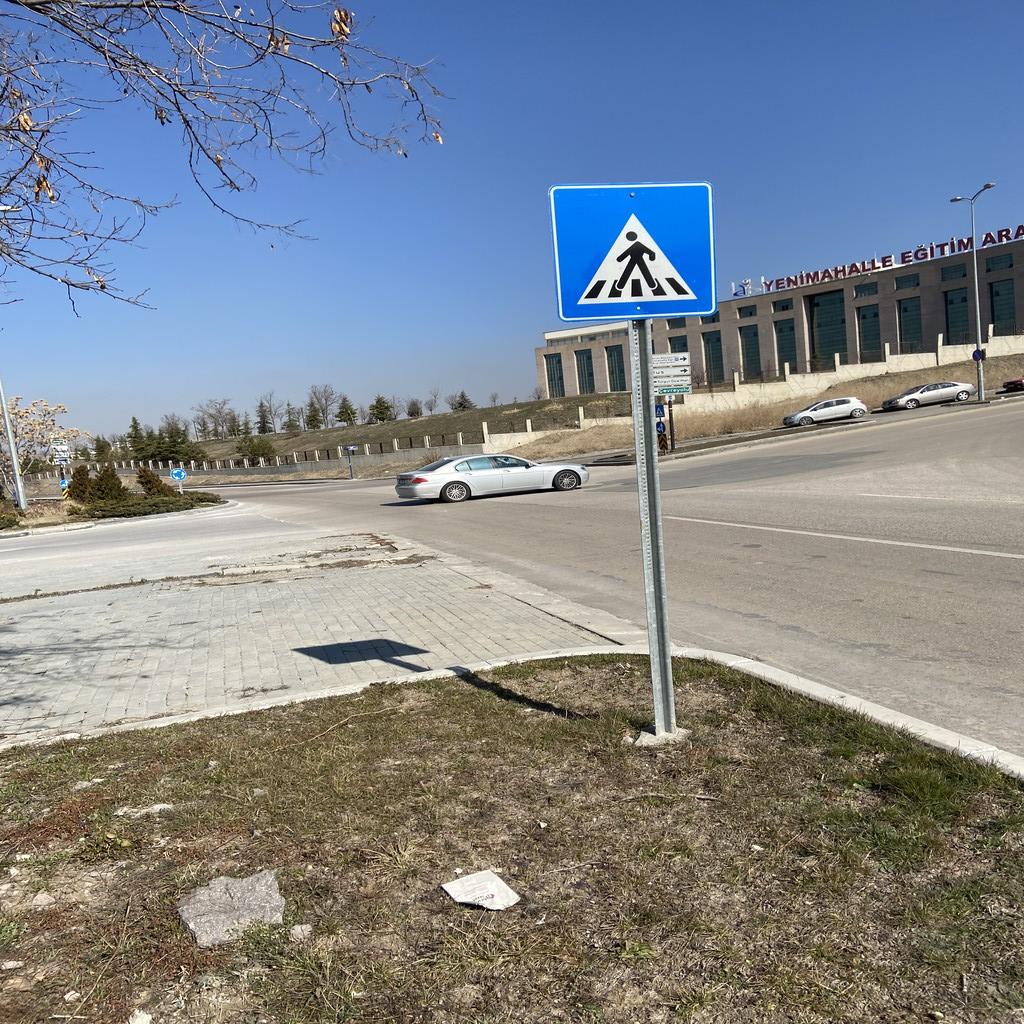Yaya Gecidi: (557, 180, 714, 314)
